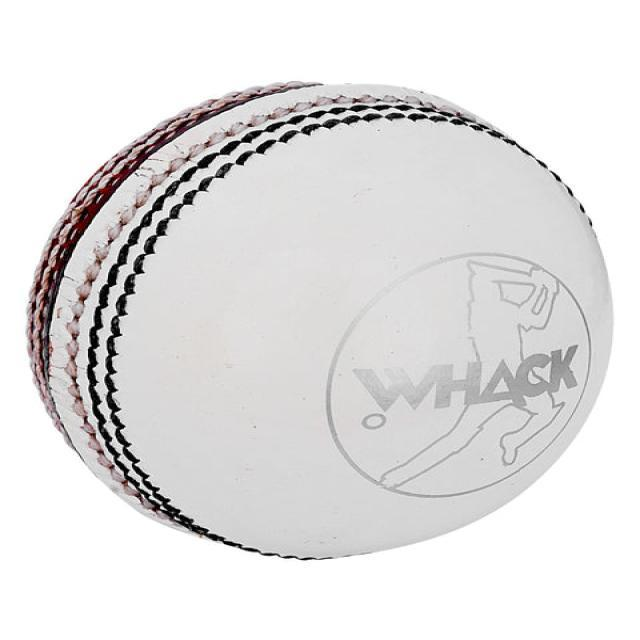cricket ball: (22, 80, 616, 561)
